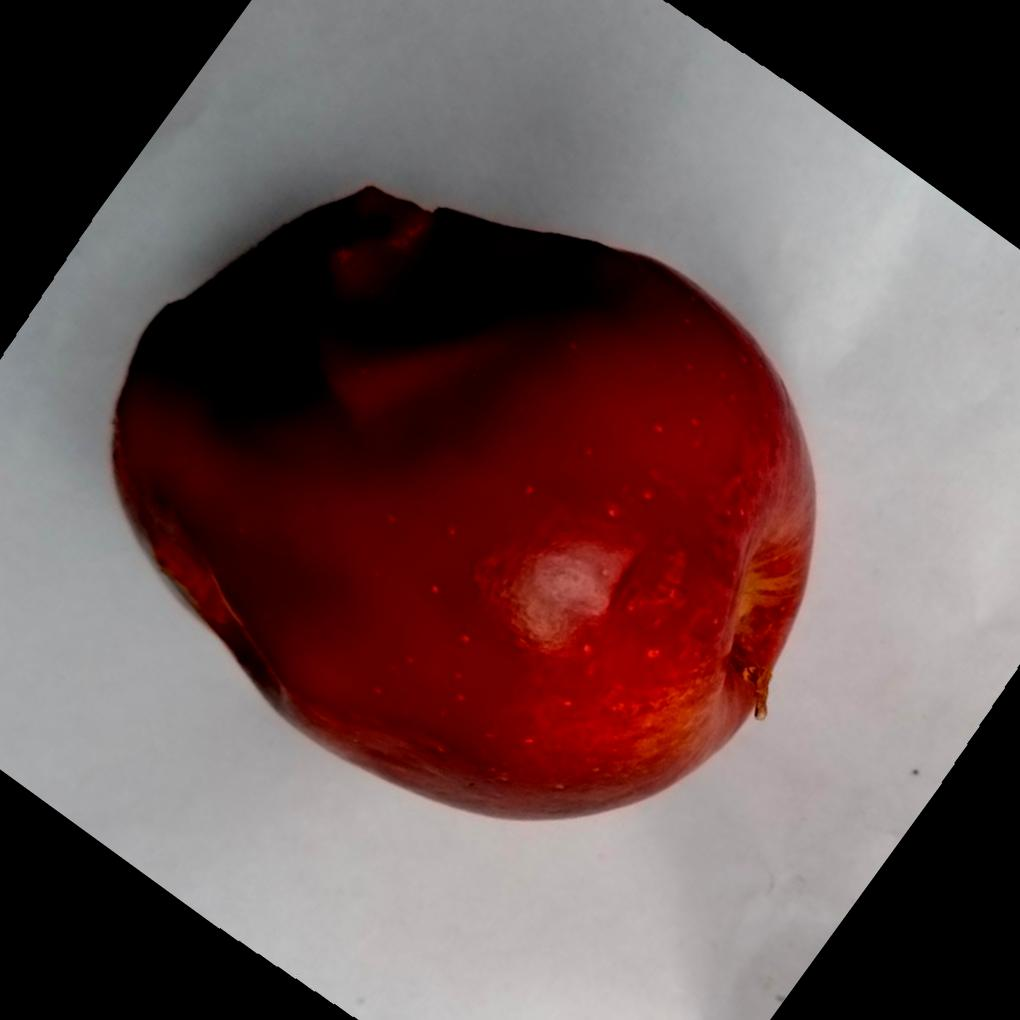FreshOrange: (107, 182, 817, 820)
